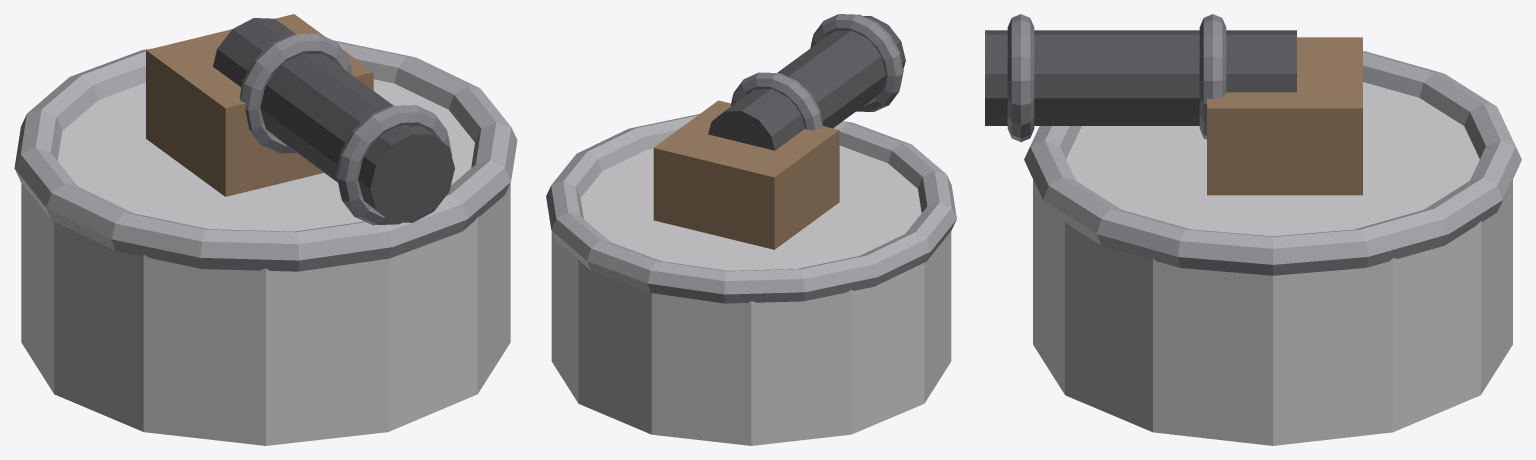
Rendered from cannon-2.glb.
3 renders of one model, left to right at view 1: azimuth 30°, elevation 25°; view 2: azimuth 150°, elevation 25°; view 3: azimuth 270°, elevation 25°, orthographic. The views are drawn at different scales.
Parts seen in each view (by area): view 1: cannon-2 base, cannon-2 rim, cannon-2 barrel, cannon-2 mount, cannon-2 band 2, cannon-2 band 1; view 2: cannon-2 base, cannon-2 rim, cannon-2 mount, cannon-2 barrel, cannon-2 band 2, cannon-2 band 1; view 3: cannon-2 base, cannon-2 rim, cannon-2 barrel, cannon-2 mount, cannon-2 band 2, cannon-2 band 1.
Boxes of the visible parts, bbox=[...] form: cannon-2 base: bbox=[21, 79, 510, 445]; cannon-2 rim: bbox=[14, 40, 517, 271]; cannon-2 barrel: bbox=[213, 18, 454, 222]; cannon-2 mount: bbox=[146, 14, 373, 196]; cannon-2 band 2: bbox=[336, 105, 452, 225]; cannon-2 band 1: bbox=[239, 33, 352, 153]; cannon-2 base: bbox=[551, 145, 951, 445]; cannon-2 rim: bbox=[546, 114, 956, 303]; cannon-2 mount: bbox=[653, 100, 839, 249]; cannon-2 barrel: bbox=[708, 16, 905, 150]; cannon-2 band 2: bbox=[810, 14, 903, 111]; cannon-2 band 1: bbox=[730, 72, 822, 130]; cannon-2 base: bbox=[1033, 82, 1512, 445]; cannon-2 rim: bbox=[1024, 51, 1521, 275]; cannon-2 barrel: bbox=[985, 30, 1296, 125]; cannon-2 mount: bbox=[1207, 37, 1362, 195]; cannon-2 band 2: bbox=[1007, 14, 1034, 141]; cannon-2 band 1: bbox=[1199, 14, 1226, 139].
Size of the model in its own units: 0.83 by 0.597 by 0.895.
